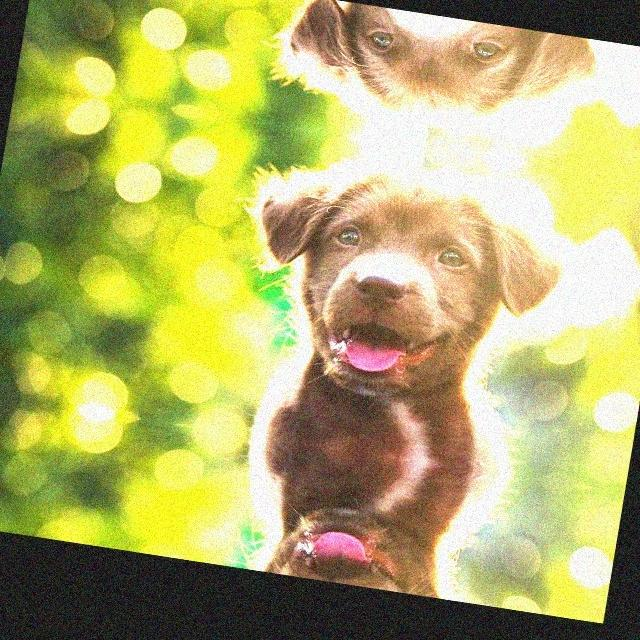dog: (226, 138, 582, 407), (268, 0, 606, 155), (192, 502, 521, 610)
